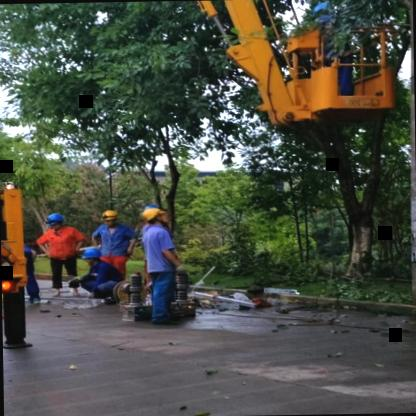helmet: (138, 205, 174, 228), (42, 210, 71, 234), (97, 209, 126, 230), (80, 245, 104, 268)
